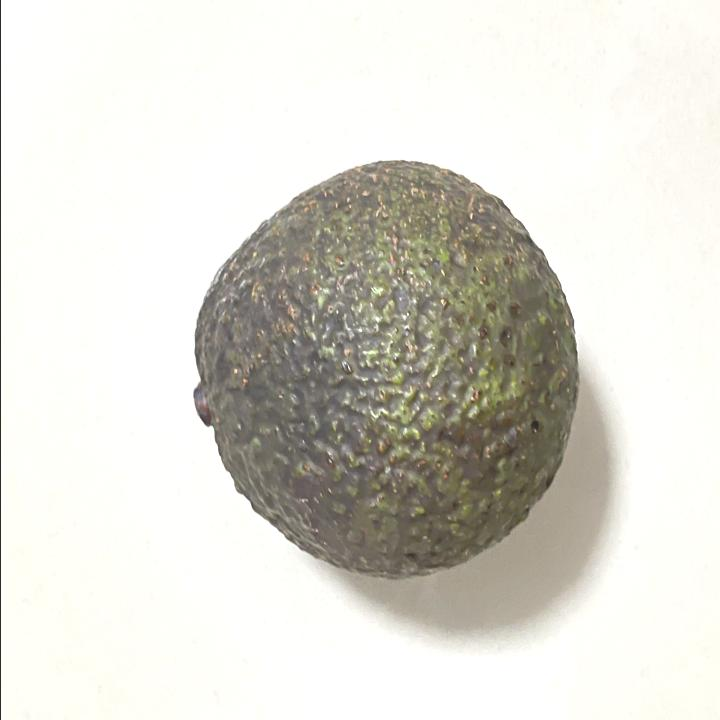Level1: (177, 150, 587, 594)
